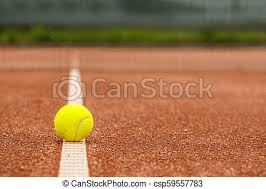tennis_ball: (54, 102, 93, 143)
